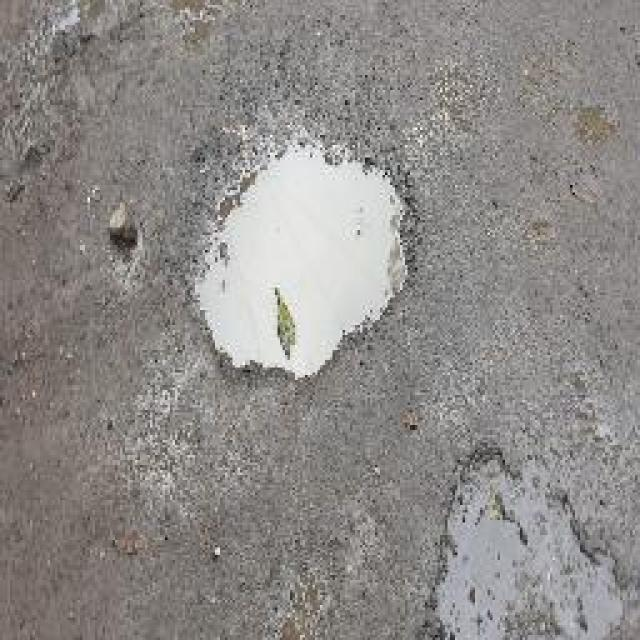waterlogging: (192, 94, 418, 384), (439, 459, 640, 640)
